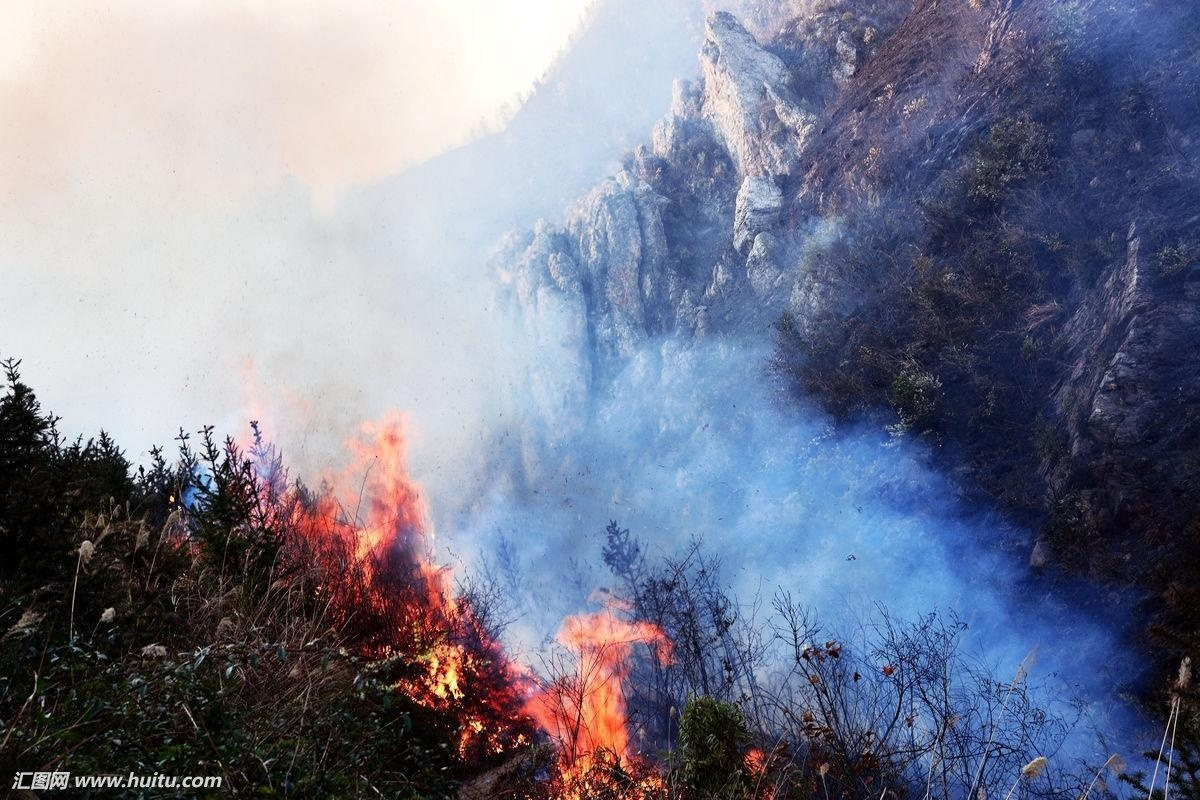fire: (230, 388, 686, 794), (739, 743, 773, 787)
